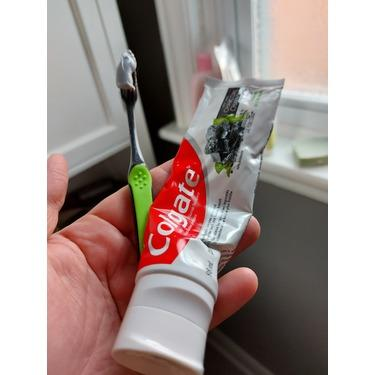toothpaste: (110, 61, 300, 372)
